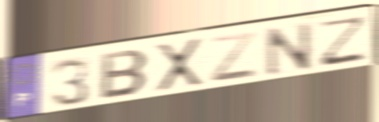3: (49, 56, 91, 109)
B: (98, 47, 152, 101)
N: (263, 20, 314, 79)
X: (153, 36, 206, 95)
Z: (317, 13, 370, 69), (209, 29, 259, 84)
